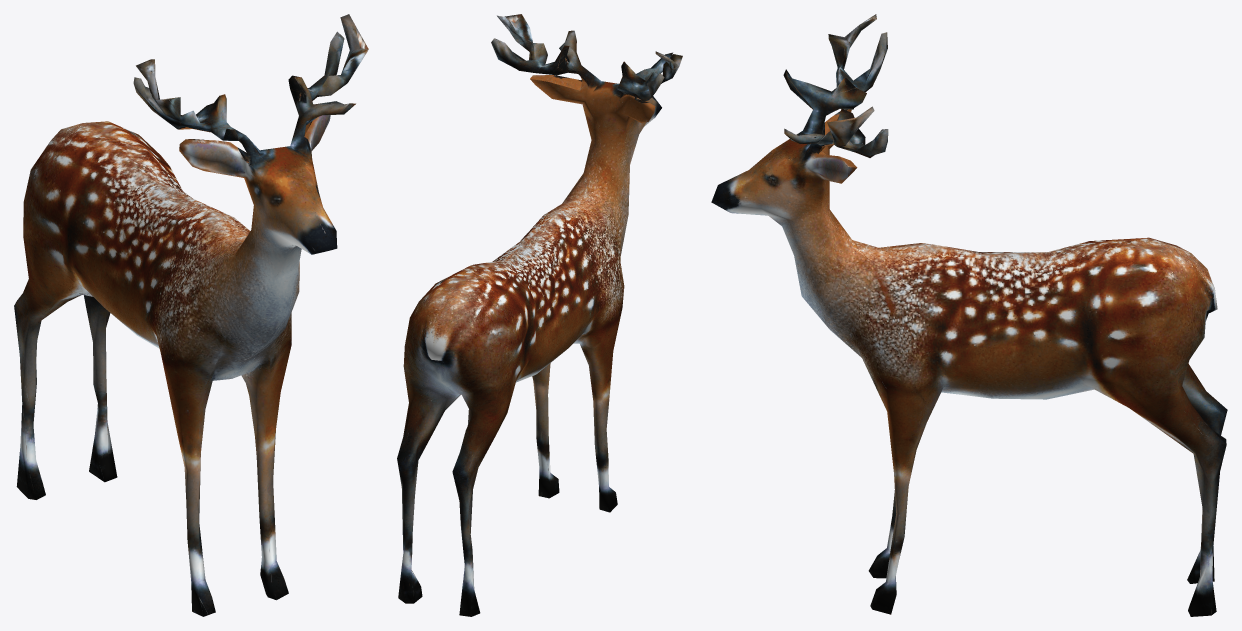
File: uploads_files_5014765_Deer_Low_Poly.fbx
3 renders of one model, left to right at view 1: azimuth 30°, elevation 25°; view 2: azimuth 150°, elevation 25°; view 3: azimuth 270°, elevation 25°, orthographic. The views are drawn at different scales.
Parts seen in each view (by area): view 1: Deer_Low_Poly; view 2: Deer_Low_Poly; view 3: Deer_Low_Poly.
Boxes of the visible parts, box(x1,y1,x2,y2) form: Deer_Low_Poly: box(14, 14, 368, 616); Deer_Low_Poly: box(397, 14, 682, 616); Deer_Low_Poly: box(711, 14, 1227, 616).
Bounding box in the file's own units: 56.42 × 146 × 127.
